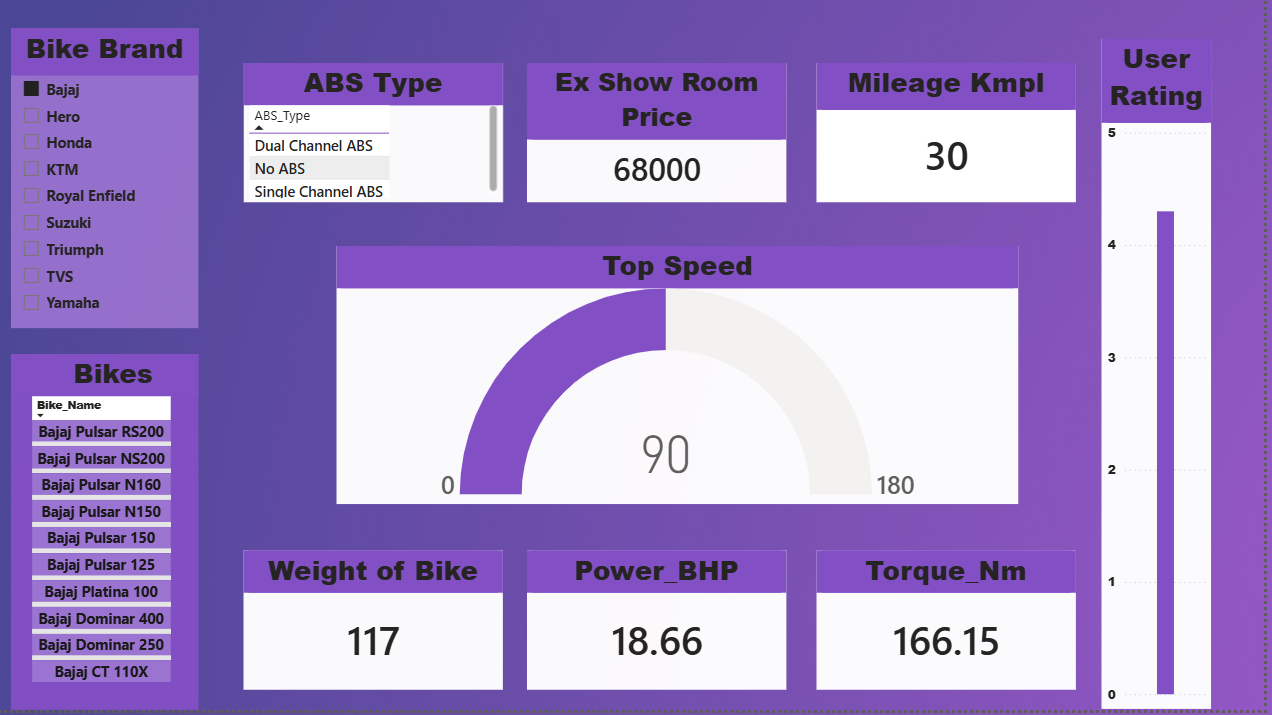

The page's visual inventory and layout, read from the dashboard file:
{"tool":"powerbi","page":{"name":"Page 1","canvas":[1280,720],"ordinal":0},"visuals":[{"type":"slicer","title":"Bike Brand","fields":{"Values":["Sheet1.brand"]},"box":[15.1,31.8,189.3,302.8],"z":0},{"type":"tableEx","title":"Bikes","fields":{"Values":["Sheet1.Bike_Name"]},"box":[15,360.4,189.3,359],"z":1000},{"type":"tableEx","title":"ABS Type","fields":{"Values":["Sheet1.ABS_Type"]},"box":[249.8,66.6,262,140.8],"z":2000},{"type":"card","title":"Mileage Kmpl","fields":{"Values":["Min(Sheet1.Mileage_kmpl)"]},"box":[828.3,66.6,262,140.8],"z":3000},{"type":"columnChart","title":"User Rating","fields":{"Y":["Min(Sheet1.User_Rating)"]},"box":[1116,42.4,110.5,676.8],"z":4000},{"type":"gauge","title":"Top Speed","fields":{"Y":["Min(Sheet1.Top_Speed_kmph)"]},"box":[343.7,251.4,689,260.4],"z":5000},{"type":"card","title":"Weight of Bike","fields":{"Values":["Min(Sheet1.Weight_kg)"]},"box":[249.8,558.7,262,140.8],"z":6000},{"type":"card","title":"Ex Show Room Price","fields":{"Values":["Min(Sheet1.Ex_Showroom_Price)"]},"box":[536,66.6,262,140.8],"z":7000},{"type":"card","title":"Power_BHP","fields":{"Values":["Avg(Sheet1.Power_BHP)"]},"box":[536,558.7,262,140.8],"z":8000},{"type":"card","title":"Torque_Nm","fields":{"Values":["Sum(Sheet1.Torque_Nm)"]},"box":[828.3,558.7,262,140.8],"z":9000}]}

Visuals, with their boxes in screenshot pixels (x1, y1, x2, y2), scaled from the page's 1280x720 canvas onto the 1272x715 screenshot:
"Bike Brand" slicer: rect(15, 32, 203, 332)
"Bikes" tableEx: rect(15, 358, 203, 714)
"ABS Type" tableEx: rect(248, 66, 509, 206)
"Mileage Kmpl" card: rect(823, 66, 1083, 206)
"User Rating" columnChart: rect(1109, 42, 1219, 714)
"Top Speed" gauge: rect(342, 250, 1026, 508)
"Weight of Bike" card: rect(248, 555, 509, 695)
"Ex Show Room Price" card: rect(533, 66, 793, 206)
"Power_BHP" card: rect(533, 555, 793, 695)
"Torque_Nm" card: rect(823, 555, 1083, 695)
